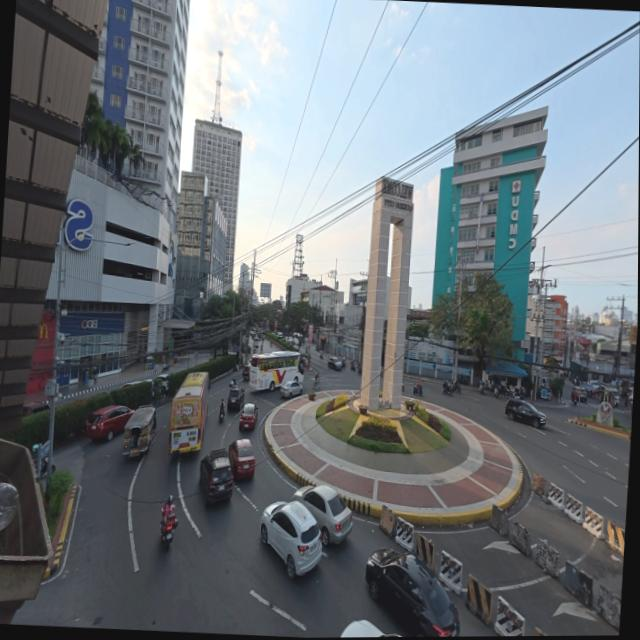Jeepneys: (123, 406, 156, 456)
bus: (169, 372, 207, 453), (248, 351, 303, 390)
car: (364, 549, 459, 636), (260, 501, 321, 579), (292, 485, 352, 546), (198, 448, 232, 504), (86, 405, 133, 440), (504, 399, 545, 427), (228, 439, 255, 479), (340, 620, 396, 636), (239, 403, 257, 429), (226, 385, 243, 410), (279, 381, 302, 399), (22, 402, 47, 416), (154, 374, 168, 394), (603, 388, 618, 406), (119, 380, 142, 389), (327, 357, 341, 370), (578, 388, 589, 403), (588, 381, 599, 389), (275, 332, 282, 338)
motorcycle: (160, 504, 176, 549), (493, 384, 508, 398), (37, 456, 47, 477), (508, 386, 521, 399), (441, 381, 452, 396), (478, 381, 488, 394), (450, 381, 460, 394), (218, 403, 224, 422), (162, 361, 171, 372), (412, 386, 421, 396), (458, 376, 468, 385), (357, 363, 363, 375), (228, 378, 235, 388), (349, 361, 355, 371), (319, 351, 322, 359)
